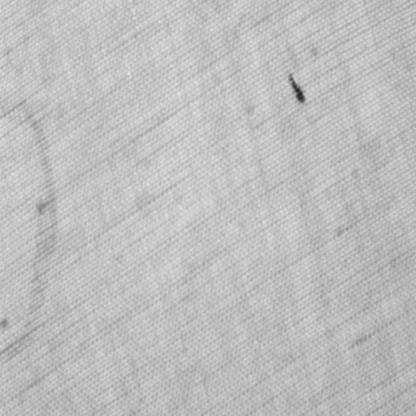oil spot: (0, 85, 60, 370), (286, 69, 307, 106)
